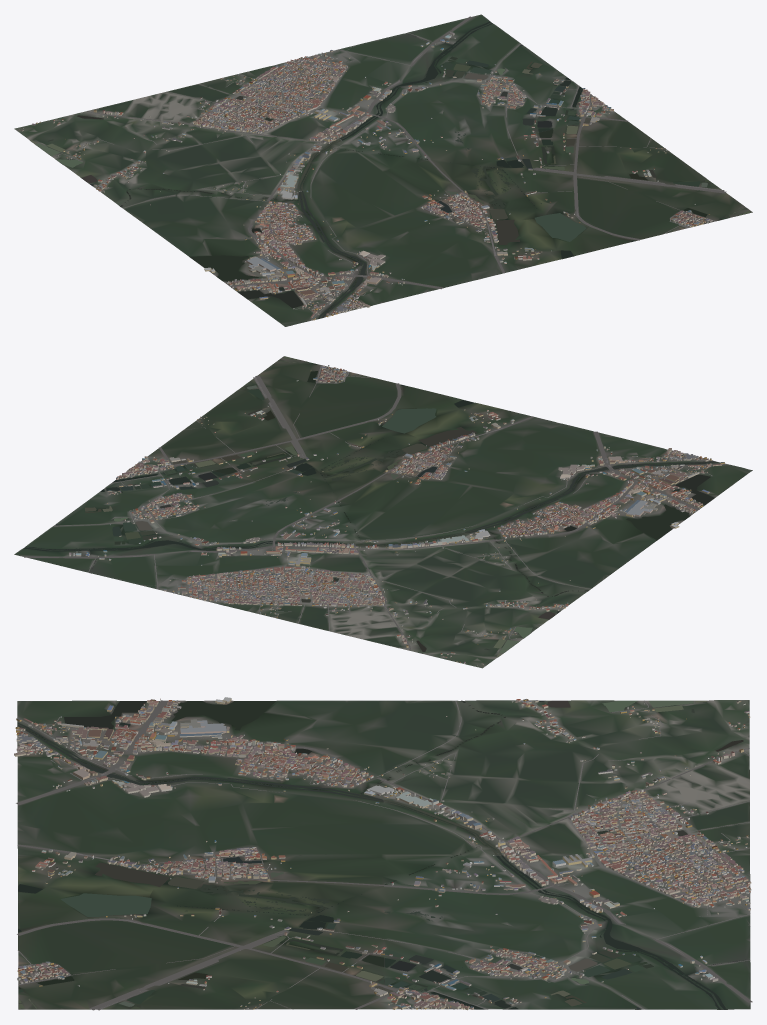
3 renders of one model, top to bottom at view 1: azimuth 30°, elevation 25°; view 2: azimuth 150°, elevation 25°; view 3: azimuth 270°, elevation 25°, orthographic. The views are drawn at different scales.
Visible parts, largest first — view 1: ground, buildings, water, roads; view 2: ground, buildings, water, roads; view 3: ground, buildings, water, roads.
Part boxes in pixels (box(x1,y1,x2,y2)): ground: box(14, 14, 752, 326); buildings: box(19, 32, 712, 320); water: box(30, 21, 751, 318); roads: box(16, 16, 726, 320); ground: box(14, 356, 752, 668); buildings: box(69, 365, 724, 665); water: box(23, 356, 719, 656); roads: box(24, 365, 727, 666); ground: box(17, 700, 750, 1009); buildings: box(14, 697, 751, 1010); water: box(17, 700, 745, 1009); roads: box(16, 700, 752, 1010).
Size of the model in its own units: 2826 by 30.57 by 2829.
